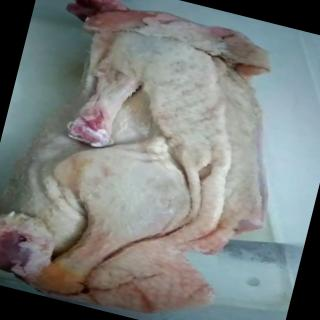Ayam: (1, 1, 312, 320)
